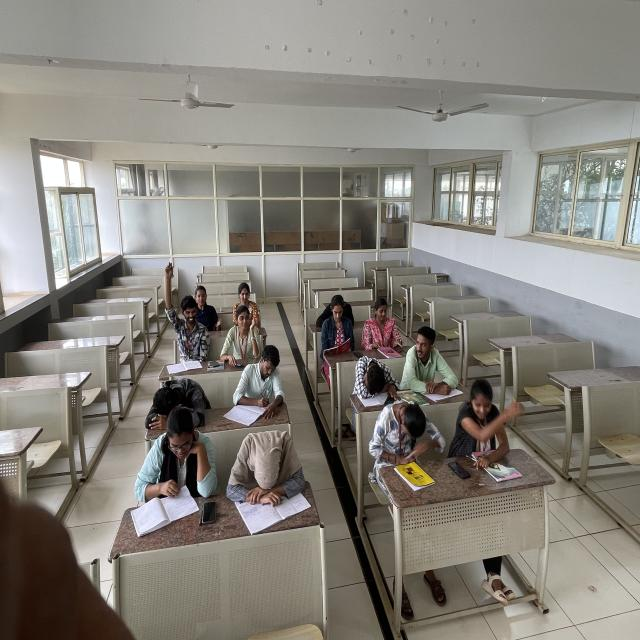Hand Rising: (157, 256, 214, 361)
Reading: (126, 402, 201, 568), (353, 302, 408, 361), (321, 290, 361, 361)
Sleeping: (225, 421, 308, 500), (106, 374, 210, 424), (343, 350, 399, 400)
Using Phone: (221, 306, 262, 372)
Writing: (227, 349, 289, 420)
